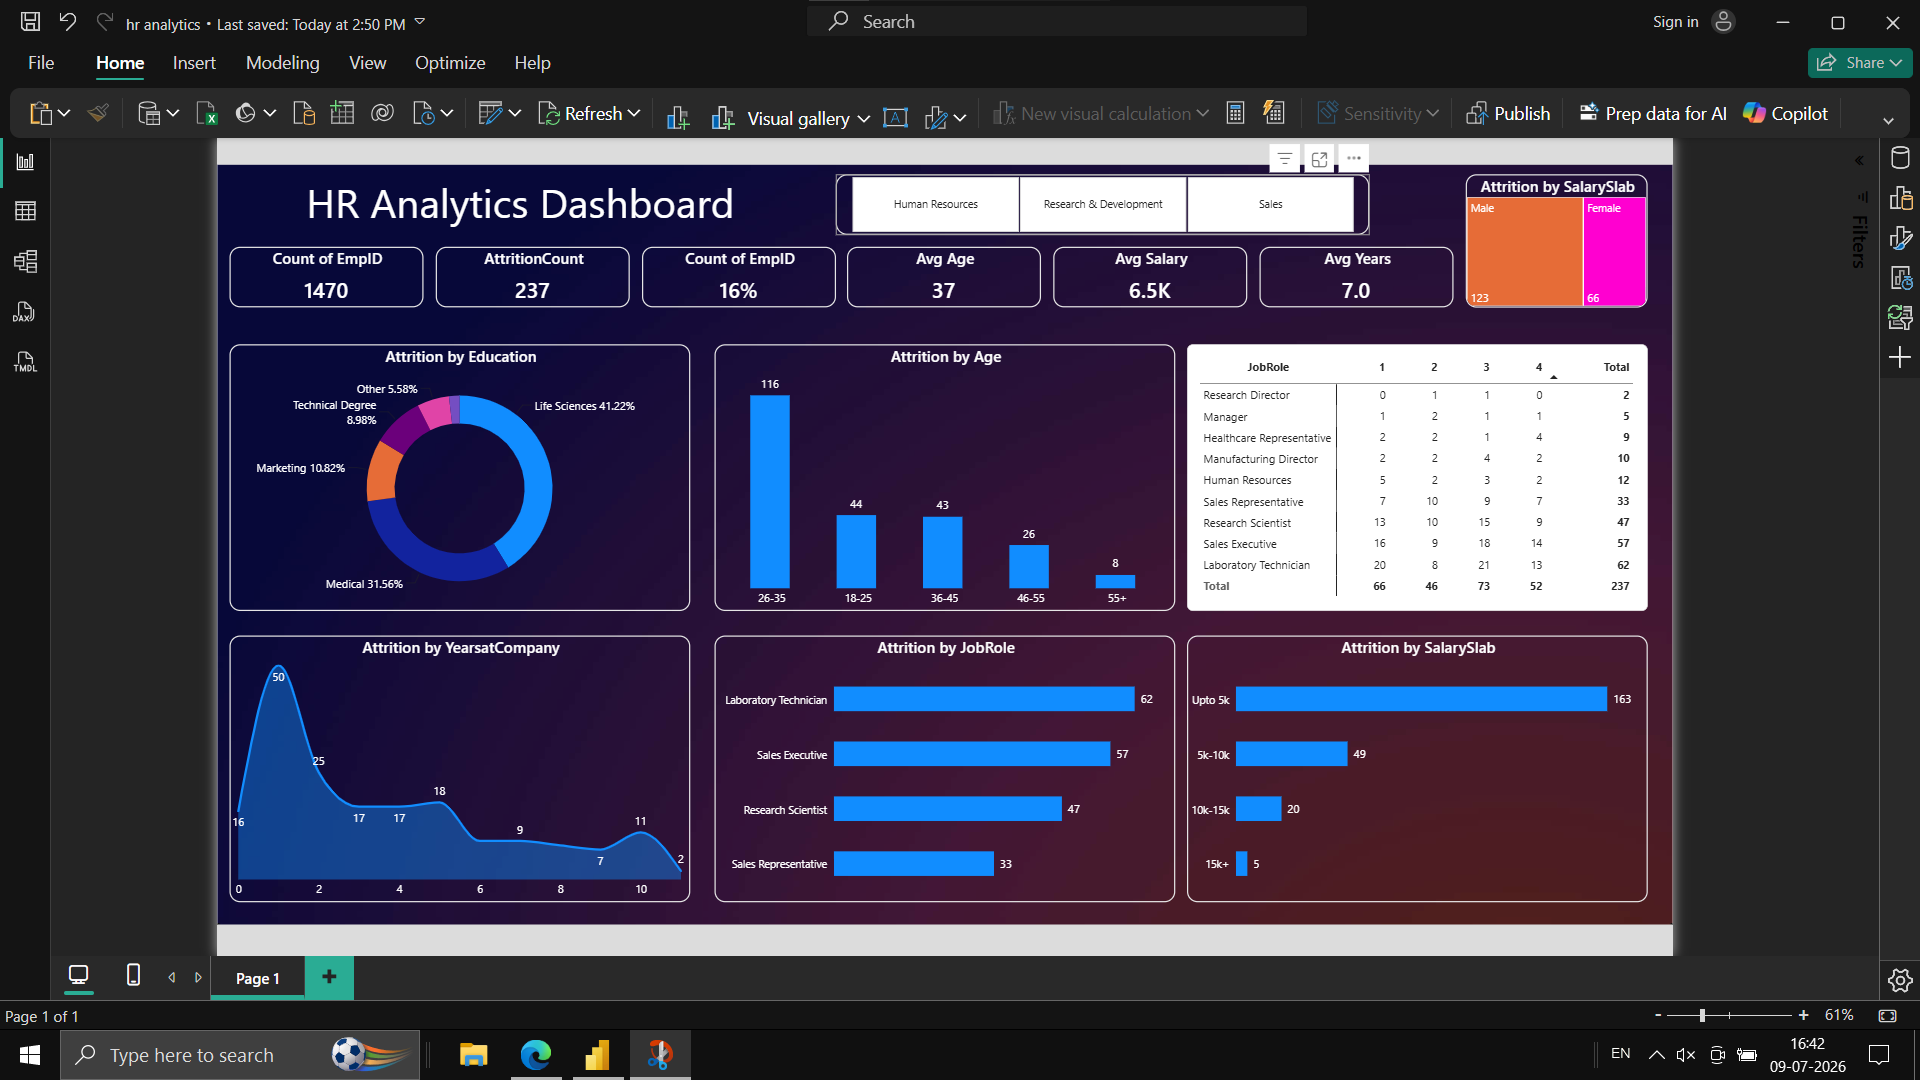

The dashboard page shown, as its layout file describes it:
{"tool":"powerbi","page":{"name":"Page 1","canvas":[1920,1080],"ordinal":0},"visuals":[{"type":"cardVisual","title":"Total Employees","fields":{"Data":["CountNonNull(HR_Analytics.EmpID)"]},"box":[16,144,256,80],"z":0},{"type":"cardVisual","title":"Attrition Count","fields":{"Data":["Sum(HR_Analytics.AttritionCount)"]},"box":[288,144,256,80],"z":1000},{"type":"cardVisual","title":"Attrition Rate","fields":{"Data":["HR_Analytics.AttritionRate"]},"box":[560,144,256,80],"z":2000},{"type":"cardVisual","title":"Avg Age","fields":{"Data":["Avg(HR_Analytics.Age)"]},"box":[832,144,256,80],"z":3000},{"type":"cardVisual","title":"Avg Salary","fields":{"Data":["Avg(HR_Analytics.MonthlyIncome)"]},"box":[1104,144,256,80],"z":4000},{"type":"cardVisual","title":"Avg Years","fields":{"Data":["Avg(HR_Analytics.YearsAtCompany)"]},"box":[1376,144,256,80],"z":5000},{"type":"donutChart","title":"Attrition by Education","fields":{"Category":["HR_Analytics.EducationField"],"Y":["CountNonNull(HR_Analytics.Attrition)"]},"box":[16,272,608,352],"z":6000},{"type":"columnChart","title":"Attrition by Age","fields":{"Category":["HR_Analytics.AgeGroup"],"Y":["Sum(HR_Analytics.AttritionCount)"]},"box":[656,272,608,352],"z":7000},{"type":"pivotTable","fields":{"Columns":["HR_Analytics.JobSatisfaction"],"Rows":["HR_Analytics.JobRole"],"Values":["Sum(HR_Analytics.AttritionCount)"]},"box":[1280,272,608,352],"z":8000},{"type":"barChart","title":"Attrition by SalarySlab","fields":{"Category":["HR_Analytics.SalarySlab"],"Y":["Sum(HR_Analytics.AttritionCount)"]},"box":[1280,656,608,352],"z":9000},{"type":"barChart","title":"Attrition by JobRole","fields":{"Category":["HR_Analytics.JobRole"],"Y":["Sum(HR_Analytics.AttritionCount)"]},"box":[656,656,608,352],"z":10000},{"type":"areaChart","title":"Attrition by YearsatCompany","fields":{"Category":["HR_Analytics.YearsAtCompany"],"Y":["Sum(HR_Analytics.AttritionCount)"]},"box":[16,656,608,352],"z":11000},{"type":"treemap","title":"Attrition by SalarySlab","fields":{"Group":["HR_Analytics.Gender"],"Values":["Sum(HR_Analytics.AttritionCount)"]},"box":[1648,48,240,176],"z":12000},{"type":"slicer","fields":{"Values":["HR_Analytics.Department"]},"box":[816,48,688,80],"z":12001},{"type":"textbox","box":[16,48,768,80],"z":12002}]}

Visuals, with their boxes on the page's 1920x1080 design canvas (x1, y1, x2, y2). These are canvas units, not pixel positions in the 1920x1080 screenshot, which may show the page scaled, cropped or inside an application window:
"Total Employees" cardVisual: crop(16, 144, 272, 224)
"Attrition Count" cardVisual: crop(288, 144, 544, 224)
"Attrition Rate" cardVisual: crop(560, 144, 816, 224)
"Avg Age" cardVisual: crop(832, 144, 1088, 224)
"Avg Salary" cardVisual: crop(1104, 144, 1360, 224)
"Avg Years" cardVisual: crop(1376, 144, 1632, 224)
"Attrition by Education" donutChart: crop(16, 272, 624, 624)
"Attrition by Age" columnChart: crop(656, 272, 1264, 624)
pivotTable - HR_Analytics.JobSatisfaction x HR_Analytics.JobRole: crop(1280, 272, 1888, 624)
"Attrition by SalarySlab" barChart: crop(1280, 656, 1888, 1008)
"Attrition by JobRole" barChart: crop(656, 656, 1264, 1008)
"Attrition by YearsatCompany" areaChart: crop(16, 656, 624, 1008)
"Attrition by SalarySlab" treemap: crop(1648, 48, 1888, 224)
slicer - HR_Analytics.Department: crop(816, 48, 1504, 128)
textbox: crop(16, 48, 784, 128)
